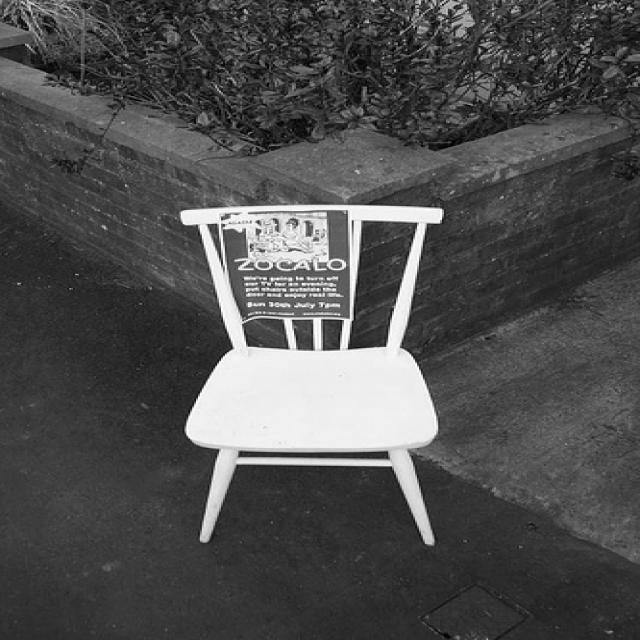chair: (177, 202, 454, 545)
